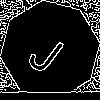J: (25, 25, 73, 77)
